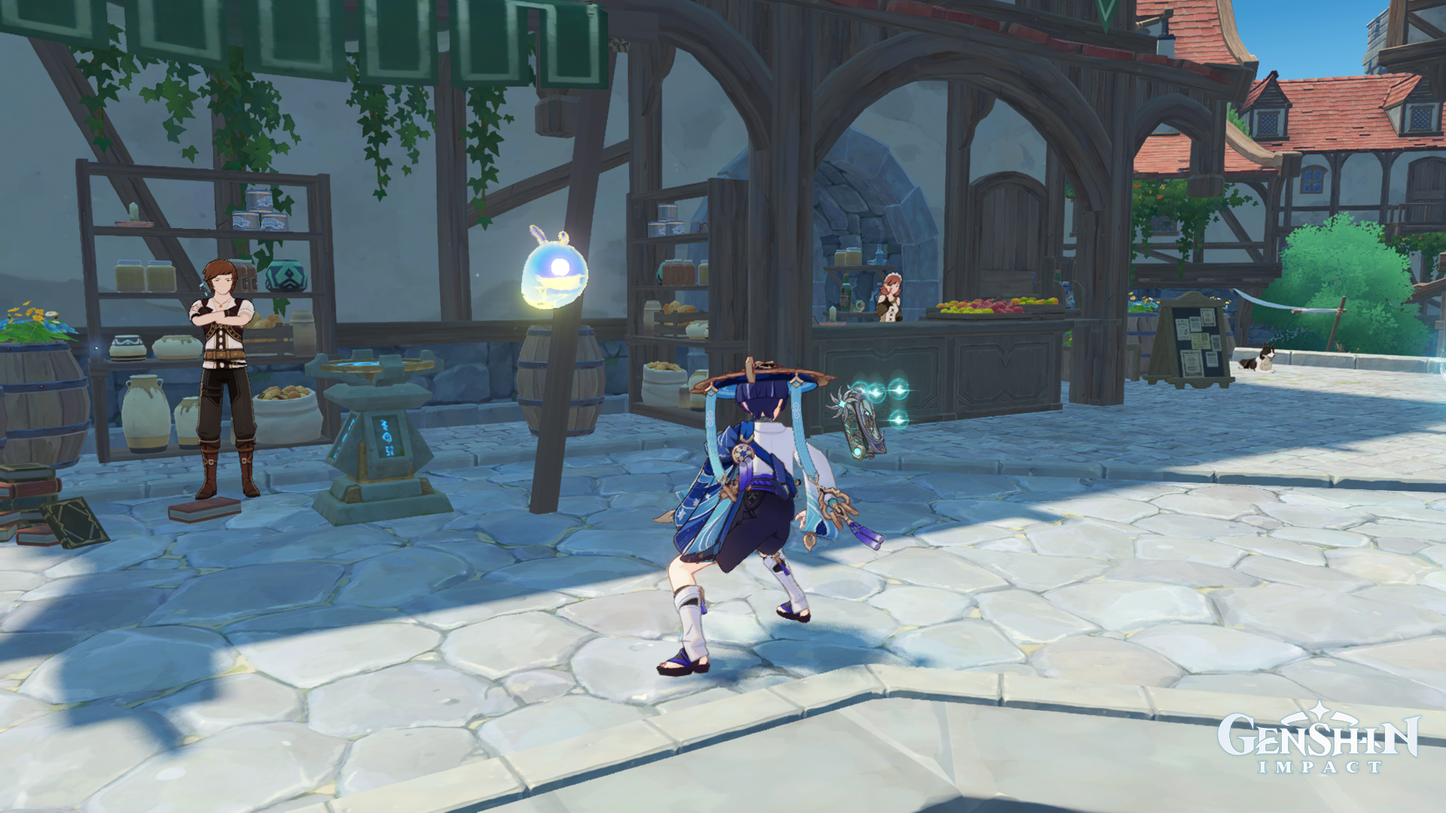Animal: (515, 222, 592, 316), (1229, 341, 1282, 380)
Human: (650, 356, 885, 683), (179, 255, 269, 506), (873, 266, 905, 325)
